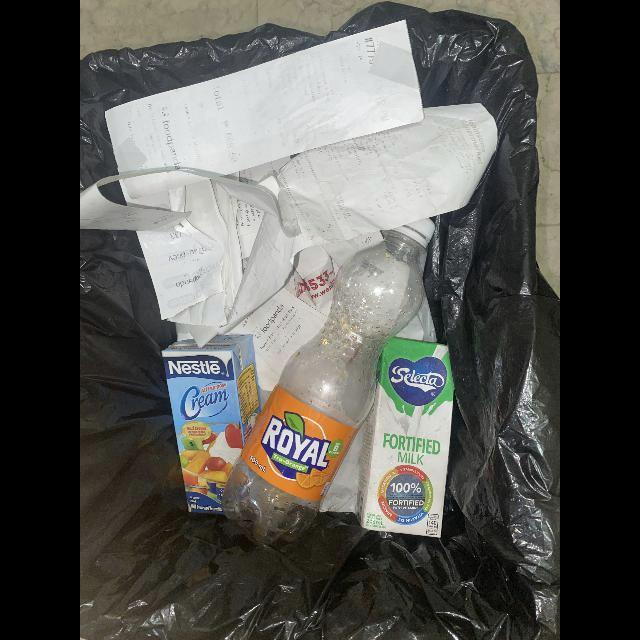paper: (219, 103, 498, 333), (103, 20, 423, 176), (126, 180, 231, 348), (227, 288, 327, 392)
plastic_bottle: (220, 218, 436, 552)
